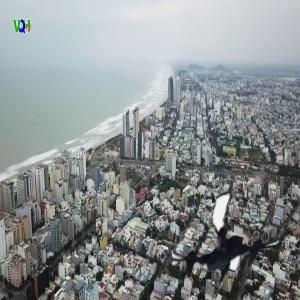drone: (171, 179, 288, 296)
